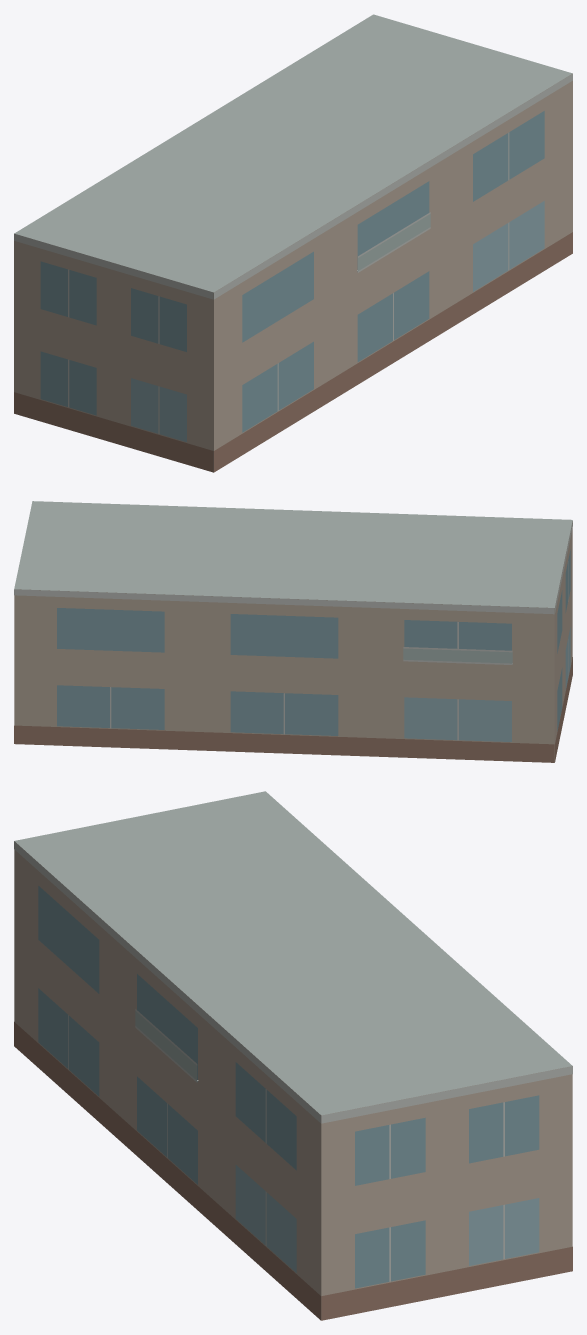
Rendered from survey-upis-32708890.glb.
The picture shows the model from 3 angles, top to bottom: view 1: azimuth 30°, elevation 25°; view 2: azimuth 150°, elevation 25°; view 3: azimuth 270°, elevation 25°; orthographic projection. The views are drawn at different scales.
Parts seen in each view (by area): view 1: survey-upis-32708890.tmp; view 2: survey-upis-32708890.tmp; view 3: survey-upis-32708890.tmp.
Part boxes in pixels (box(x1,y1,x2,y2)): survey-upis-32708890.tmp: box(14, 14, 572, 472); survey-upis-32708890.tmp: box(14, 501, 572, 762); survey-upis-32708890.tmp: box(14, 791, 572, 1320).
Size of the model in its own units: 20.68 by 6.1 by 15.06.
